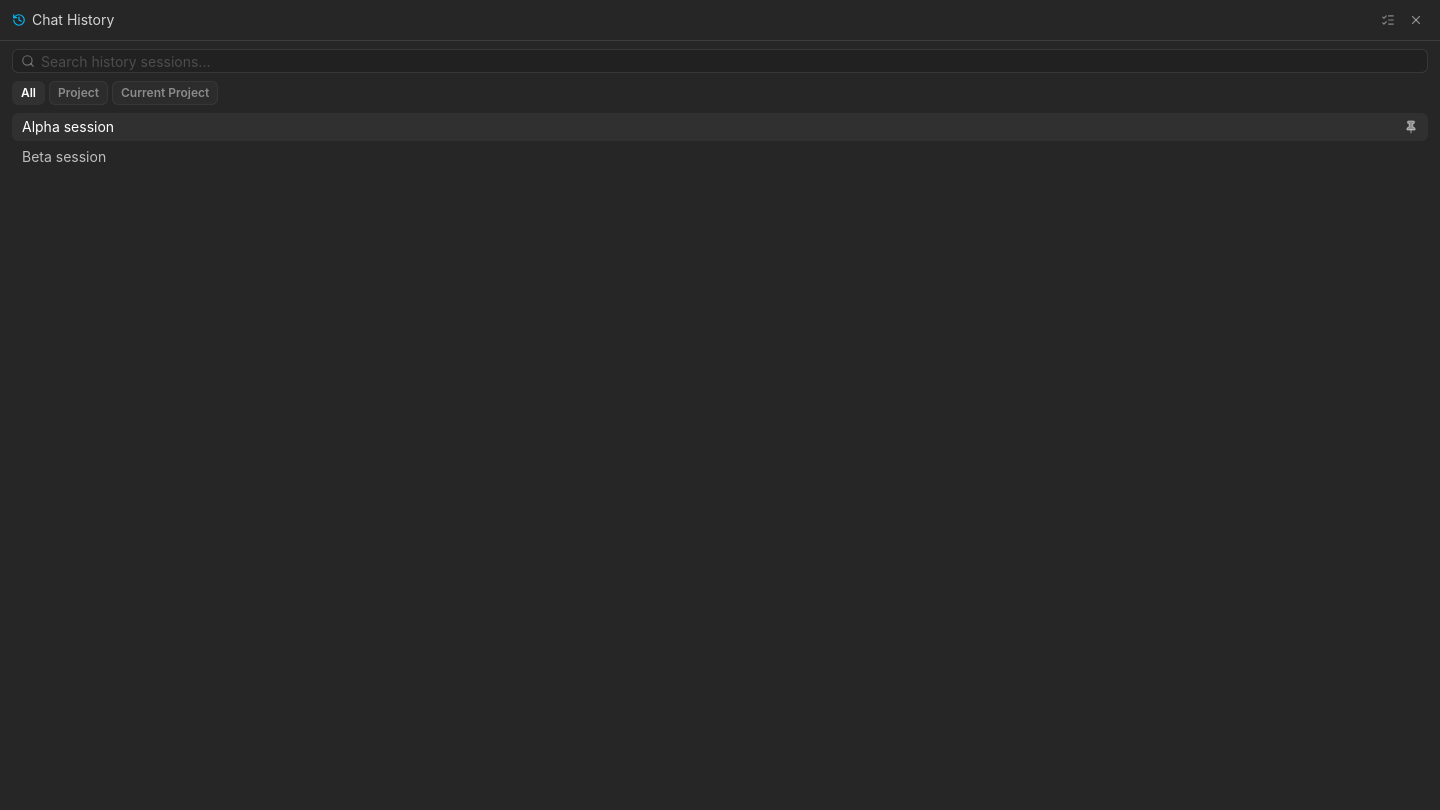
it: AgentHistoryPanel › 置顶会话行渲染置顶标识与差异化样式，菜单提供取消置顶
Expected: the 5th icon is shown, [1404,120,1418,134]
Step 1. Right-click the button "Alpha session" → x=68, y=126, box [12,113,1428,141]
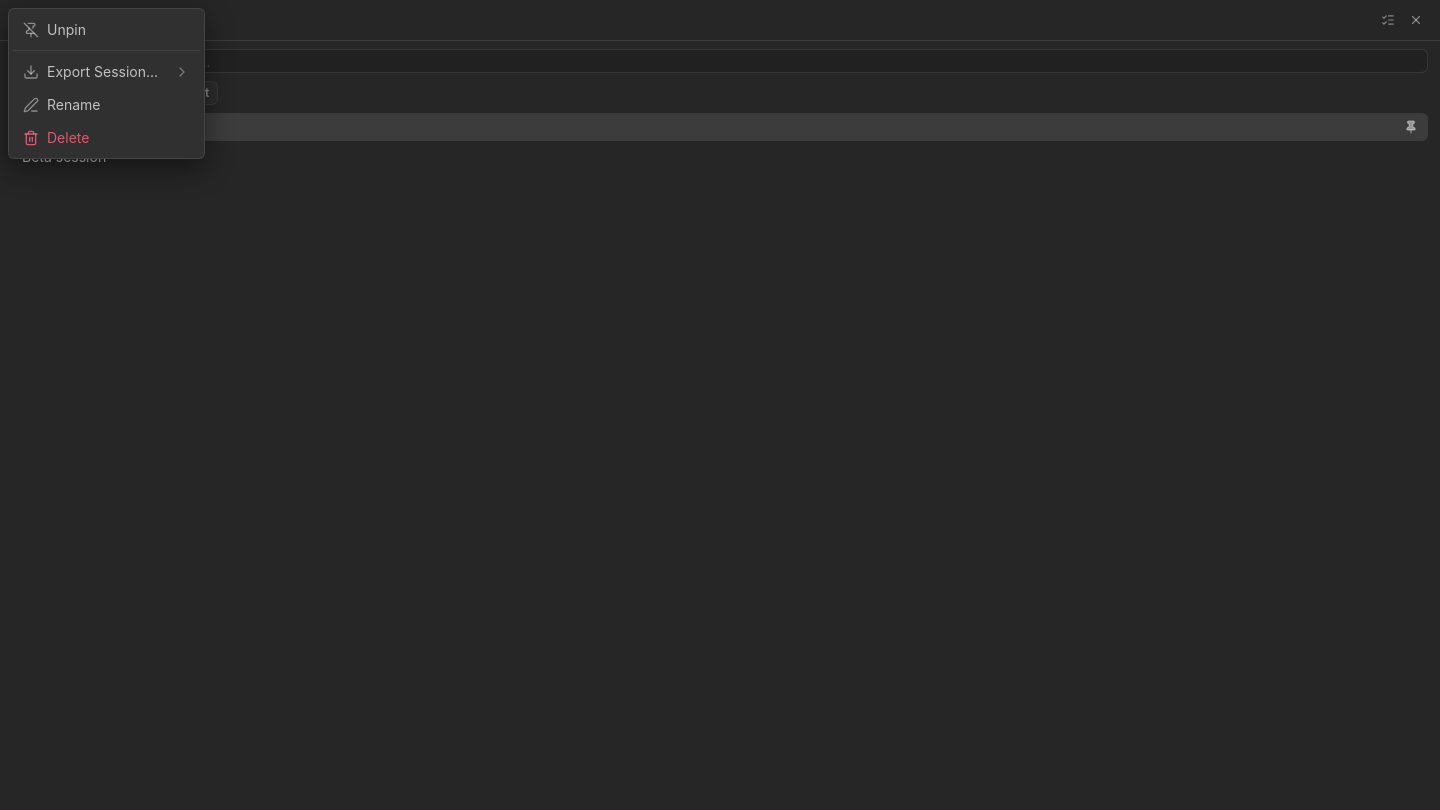
Result: the text "Unpin" is shown at [47,21,86,38]
